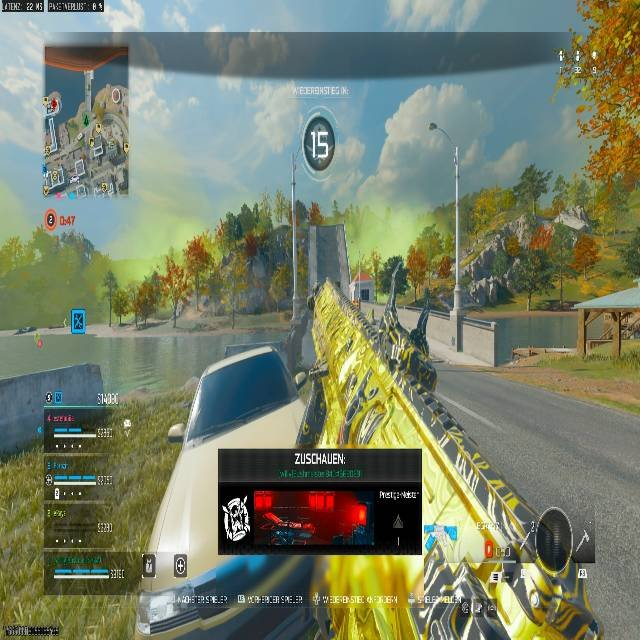head: (533, 507, 573, 570)
player: (438, 508, 605, 639)
